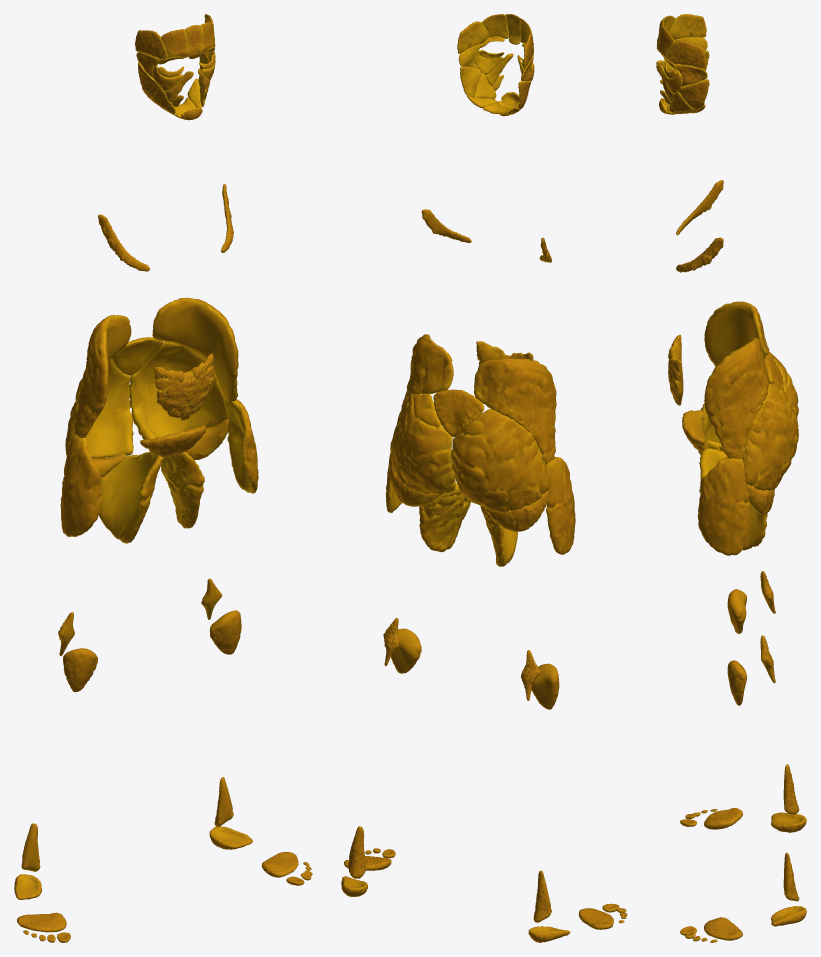
Rendered from fat-lite.glb.
3 renders of one model, left to right at view 1: azimuth 30°, elevation 25°; view 2: azimuth 150°, elevation 25°; view 3: azimuth 270°, elevation 25°, orthographic. The views are drawn at different scales.
Parts seen in each view (by area): view 1: Posterior_Gluteal_Fmale_l, Lateral_Gluteal_l, Inner_Thigh_r, Lateral_Gluteal_r, Posterior_Gluteal_Fmale_r, Outer_Thigh_r, Abdominal_Fat_Pad_m, Inner_Thigh_l, Outer_Thigh_l, Foot_Fat_Pads_l, Foot_Fat_Pads_r, Rhombus_of_Michaelis_m (+8 smaller); view 2: Posterior_Gluteal_Fmale_r, Lateral_Gluteal_r, Posterior_Gluteal_Fmale_l, Outer_Thigh_r, Inner_Thigh_l, Lateral_Gluteal_l, Rhombus_of_Michaelis_m, Foot_Fat_Pads_r, Posterior_Gluteal_r, Inner_Thigh_r, Foot_Fat_Pads_l, Infrapatellar_Fat_Pad_l (+6 smaller); view 3: Lateral_Gluteal_l, Outer_Thigh_l, Posterior_Gluteal_Fmale_l, Lateral_Gluteal_r, Foot_Fat_Pads_l, Foot_Fat_Pads_r, Inner_Thigh_l, Abdominal_Fat_Pad_m, Lateral_Temporal_l, Lateral_Temporal_r, Pubic_Fat_Pad_m, Infrapatellar_Fat_Pad_r (+11 smaller).
Boxes of the visible parts, box(x1,y1,x2,y2) form: Posterior_Gluteal_Fmale_l: box(129, 341, 228, 439); Lateral_Gluteal_l: box(152, 297, 238, 403); Inner_Thigh_r: box(98, 452, 163, 543); Lateral_Gluteal_r: box(74, 315, 131, 437); Posterior_Gluteal_Fmale_r: box(65, 359, 133, 458); Outer_Thigh_r: box(60, 434, 102, 536); Abdominal_Fat_Pad_m: box(154, 353, 214, 420); Inner_Thigh_l: box(161, 451, 204, 528); Outer_Thigh_l: box(225, 399, 258, 493); Foot_Fat_Pads_l: box(209, 826, 312, 885); Foot_Fat_Pads_r: box(14, 874, 70, 942); Rhombus_of_Michaelis_m: box(111, 337, 163, 375); Posterior_Gluteal_Fmale_r: box(451, 409, 549, 512); Lateral_Gluteal_r: box(474, 358, 556, 464); Posterior_Gluteal_Fmale_l: box(390, 393, 455, 494); Outer_Thigh_r: box(546, 457, 575, 554); Inner_Thigh_l: box(419, 483, 470, 552); Lateral_Gluteal_l: box(402, 334, 453, 403); Rhombus_of_Michaelis_m: box(433, 389, 484, 436); Foot_Fat_Pads_r: box(528, 903, 627, 942); Posterior_Gluteal_r: box(483, 490, 548, 531); Inner_Thigh_r: box(480, 506, 517, 566); Foot_Fat_Pads_l: box(341, 848, 395, 896); Infrapatellar_Fat_Pad_l: box(391, 628, 421, 673); Lateral_Gluteal_l: box(704, 338, 769, 459); Outer_Thigh_l: box(697, 457, 750, 555); Posterior_Gluteal_Fmale_l: box(742, 383, 798, 490); Lateral_Gluteal_r: box(704, 301, 769, 366); Foot_Fat_Pads_l: box(680, 906, 806, 942); Foot_Fat_Pads_r: box(680, 808, 806, 832); Inner_Thigh_l: box(699, 448, 767, 550); Abdominal_Fat_Pad_m: box(668, 334, 683, 405); Lateral_Temporal_l: box(666, 40, 706, 68); Lateral_Temporal_r: box(669, 14, 706, 39); Pubic_Fat_Pad_m: box(682, 410, 708, 450); Infrapatellar_Fat_Pad_r: box(727, 589, 746, 633).
Size of the model in its own units: 0.5469 by 1.65 by 0.2615.
2 materials, 2 textured.
